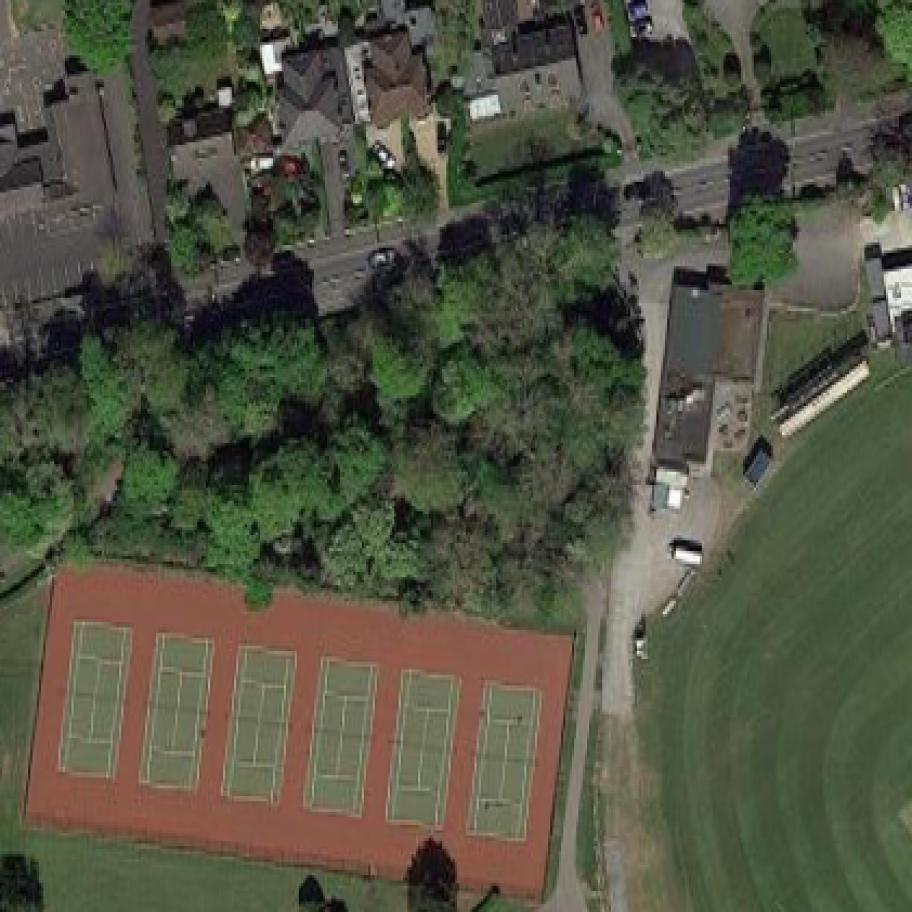small-vehicle: (370, 140, 401, 169), (365, 248, 400, 269), (338, 150, 353, 185), (249, 156, 277, 171)
